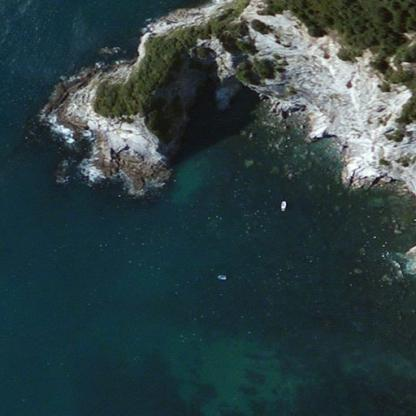ship: (214, 271, 226, 283), (280, 33, 286, 45)
